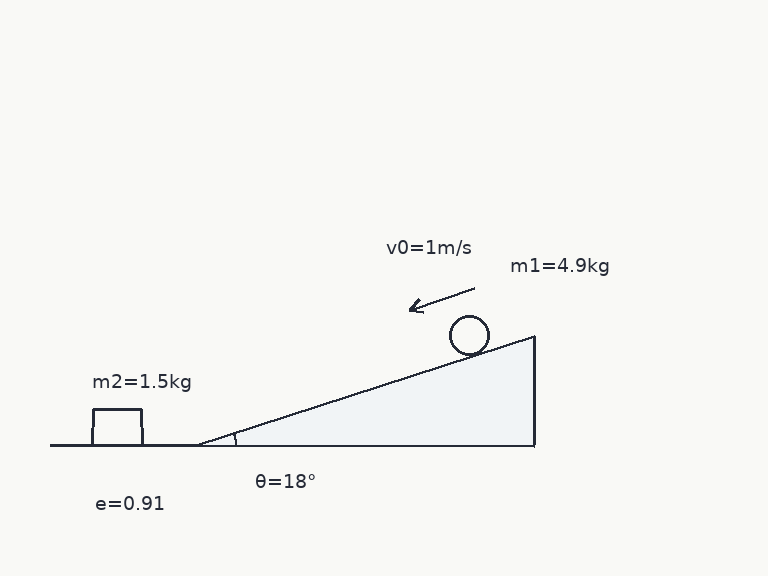ball: (447, 313, 491, 357)
block: (91, 407, 143, 447)
ramp: (194, 333, 536, 447)
